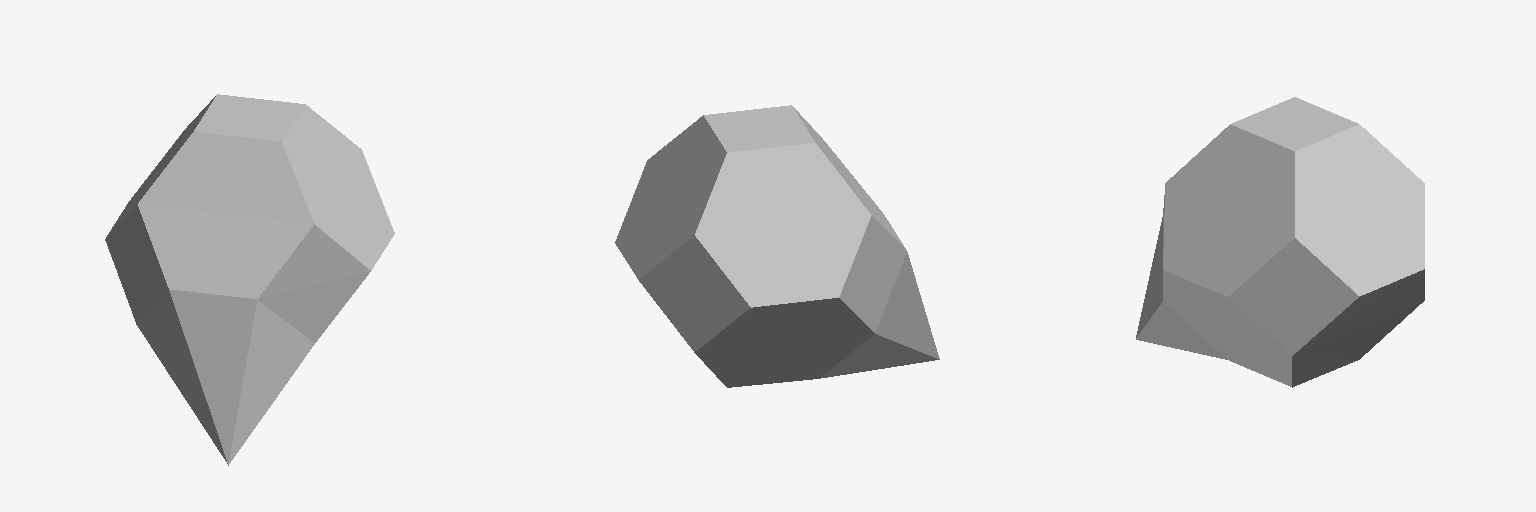
Rendered from fcc.test2.obj.
3 renders of one model, left to right at view 1: azimuth 30°, elevation 25°; view 2: azimuth 150°, elevation 25°; view 3: azimuth 270°, elevation 25°, orthographic.
Parts seen in each view (by area): view 1: Obj2_Mesh2, Obj1_Mesh1; view 2: Obj2_Mesh2, Obj1_Mesh1; view 3: Obj2_Mesh2, Obj1_Mesh1.
Part boxes in pixels (x1,y1,x2,y2): Obj2_Mesh2: (105,94,394,342); Obj1_Mesh1: (136,289,314,465); Obj2_Mesh2: (615,105,906,387); Obj1_Mesh1: (819,252,939,378); Obj2_Mesh2: (1163,97,1424,387); Obj1_Mesh1: (1136,217,1226,359).
Bounding box in the file's own units: 1.22 × 1.36 × 1.35.